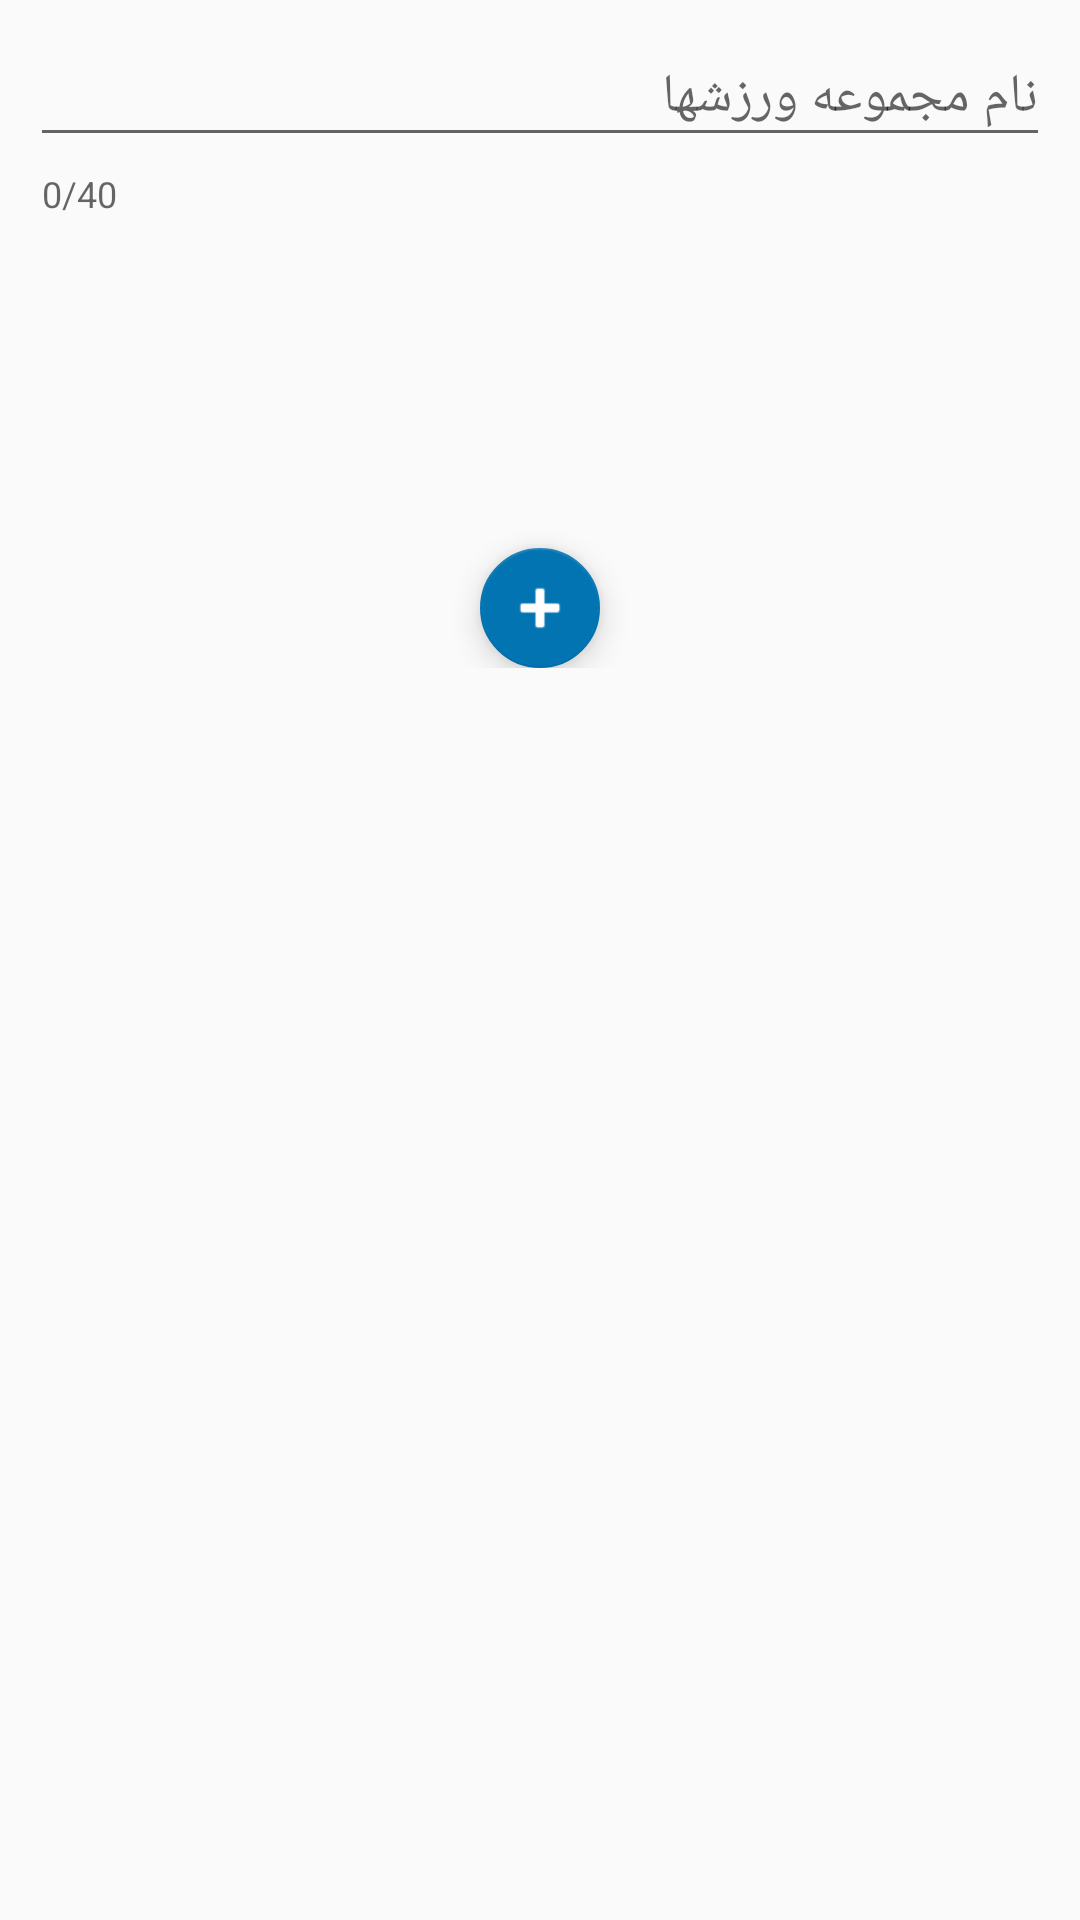

Icons on this 1080*1920 Android screen, each with the point to tap as (x=x, y=y):
add: (x=540, y=608)
